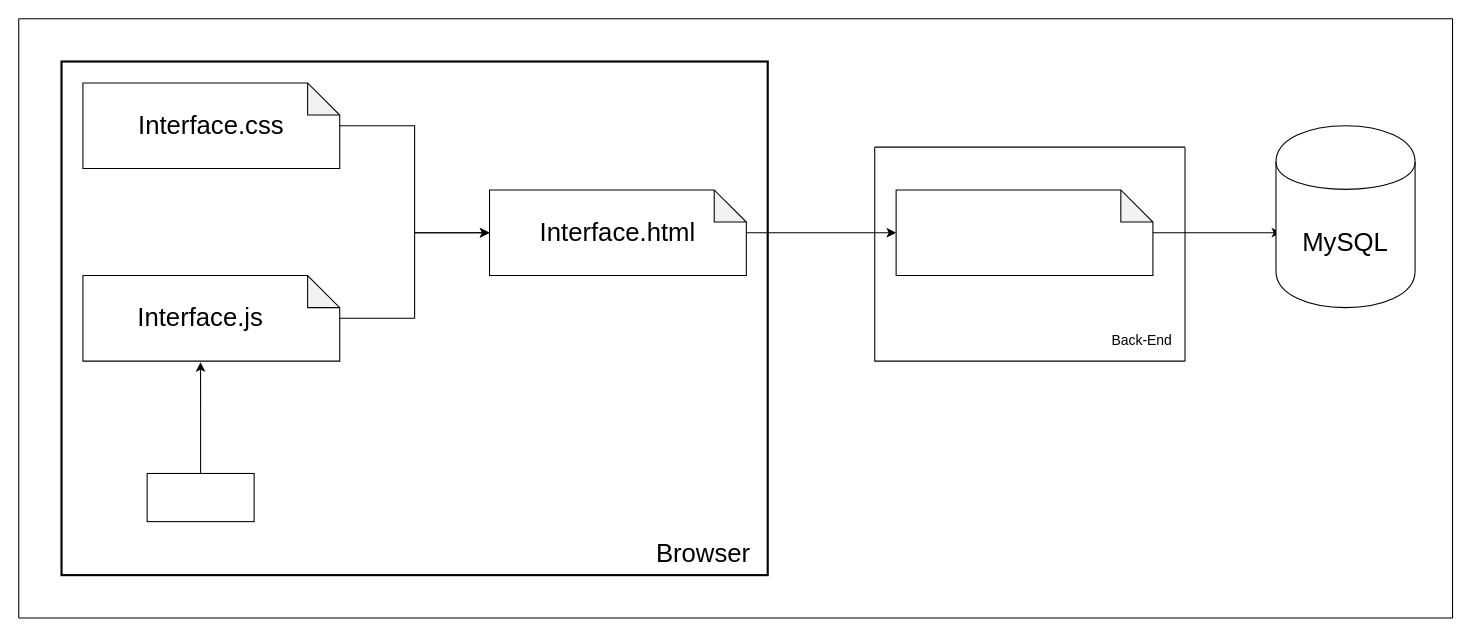
The diagram is 1472 pixels wide and 638 high, and some of its shapes have lost their labels. The shapes that lost their labels are listed below. From the top down, each one's centre as x and y in pixels, then its label:
pixel 1024 232: Interface.py
pixel 200 497: JQuery
